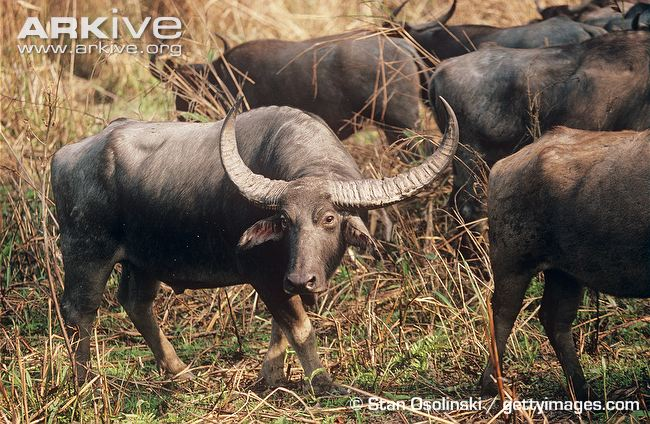buffalo: (41, 96, 453, 396), (477, 122, 650, 393), (425, 49, 650, 230), (154, 33, 416, 168)
